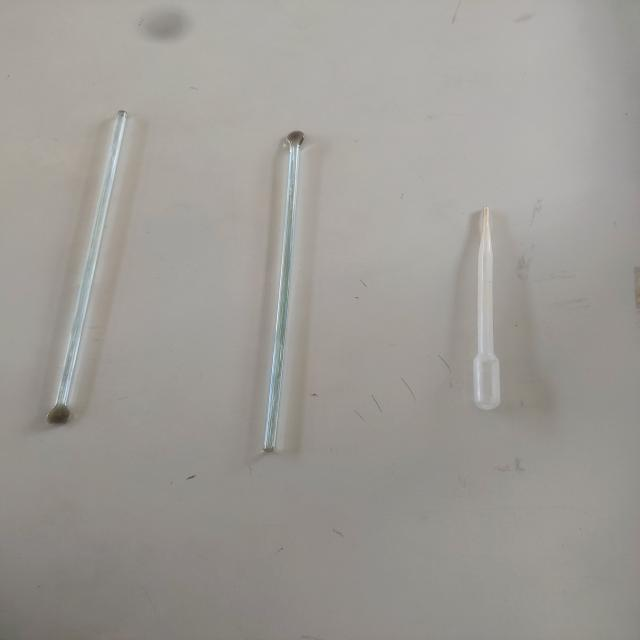Glass_Rod: (222, 101, 355, 475), (35, 72, 159, 449)
Pipette: (448, 188, 550, 430)
